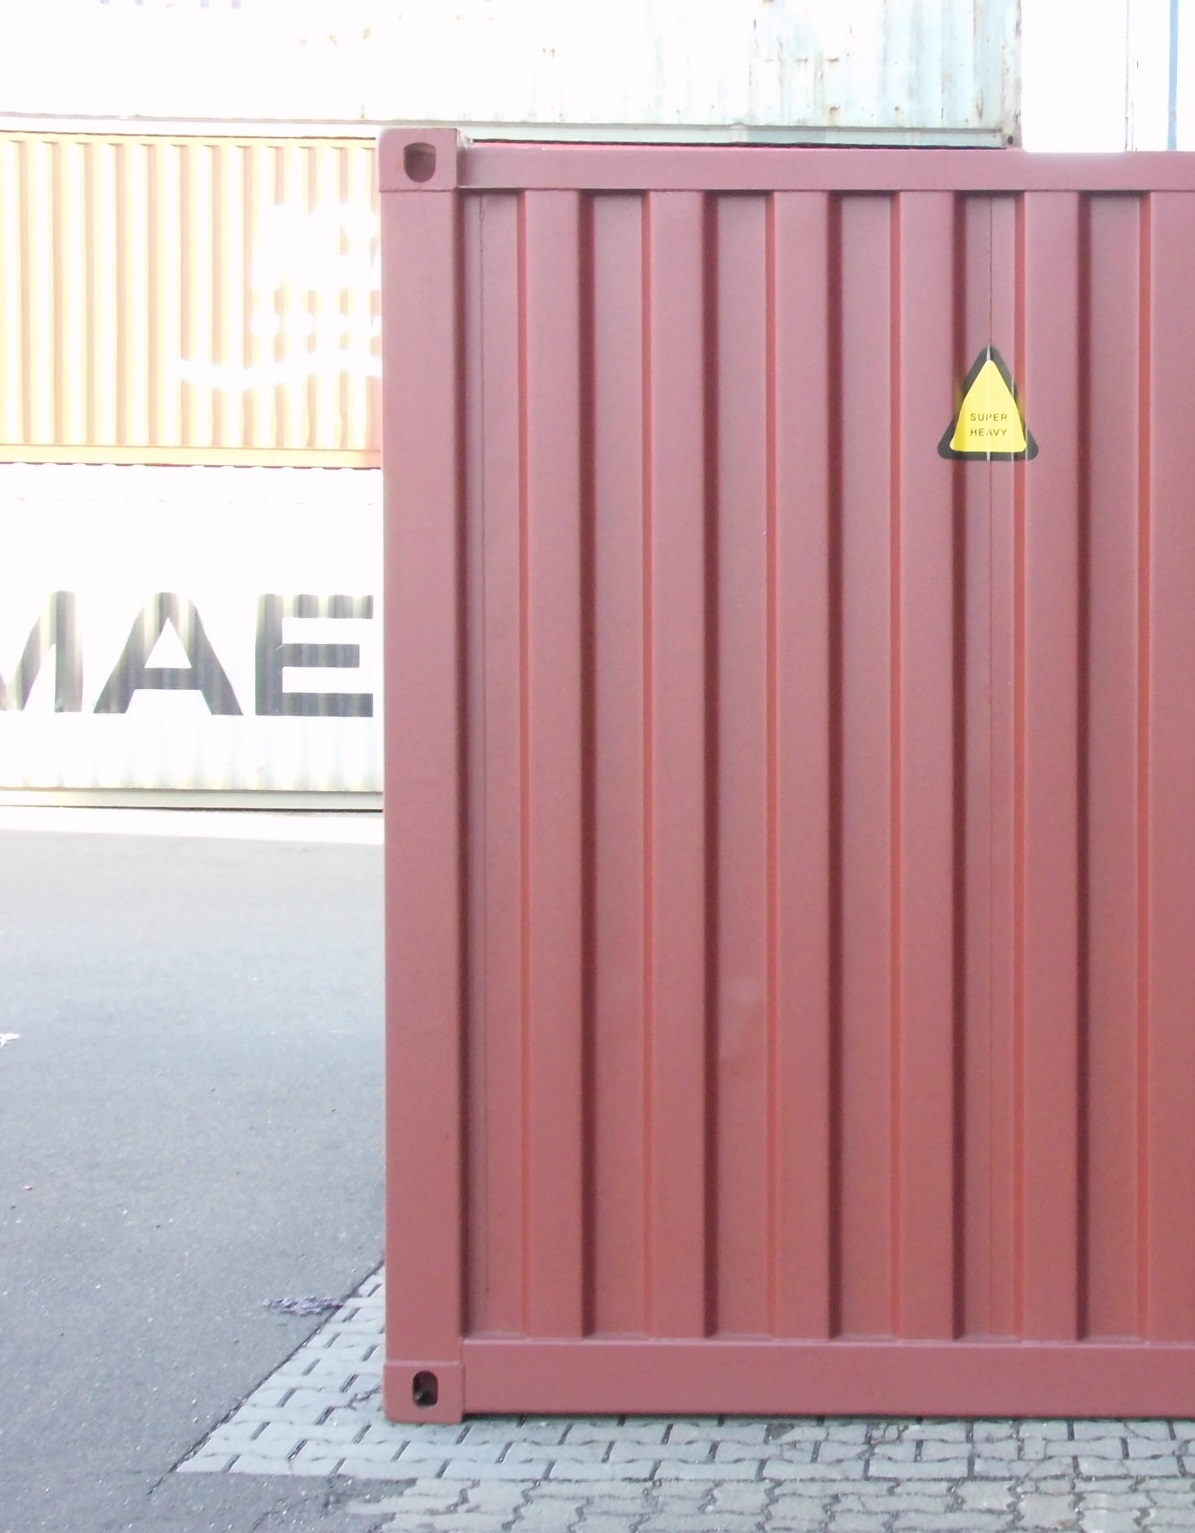container_no_door: (373, 129, 1195, 1428)
